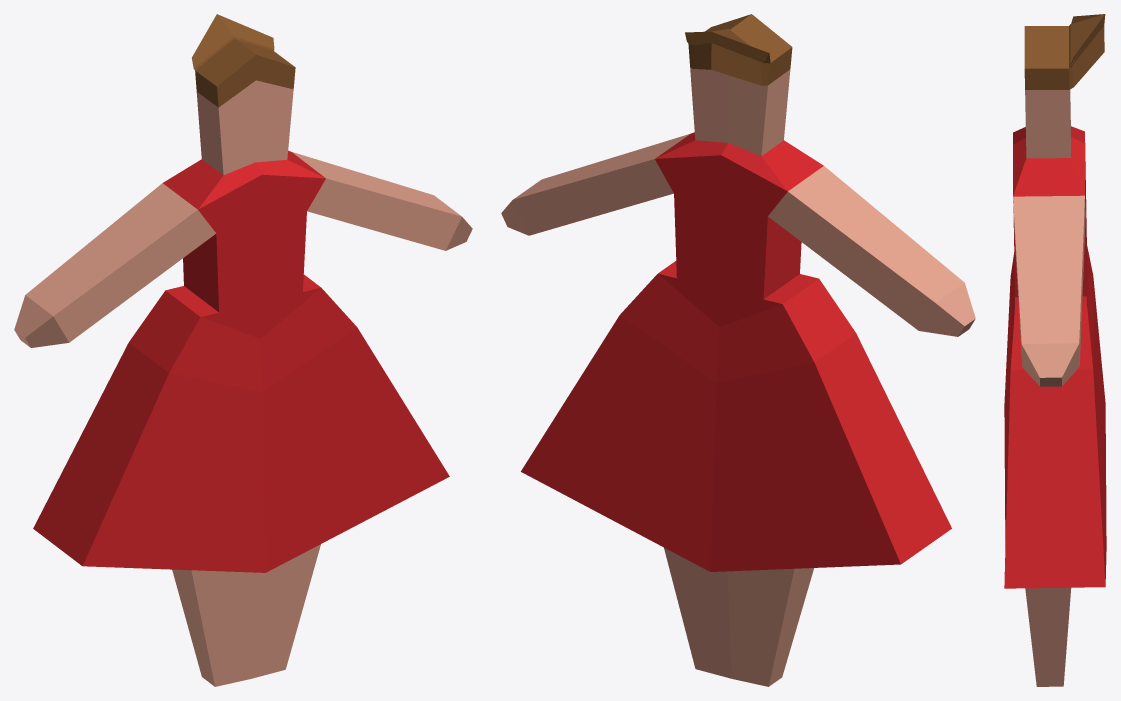
The model's file is scene_ASUJx6NDiB.glb.
The picture shows the model from 3 angles, left to right: view 1: azimuth 30°, elevation 25°; view 2: azimuth 150°, elevation 25°; view 3: azimuth 270°, elevation 25°; orthographic projection. The views are drawn at different scales.
Parts seen in each view (by area): view 1: Cube; view 2: Cube; view 3: Cube.
Boxes of the visible parts, left/top/right/bottom form: Cube: left=14, top=14, right=472, bottom=686; Cube: left=501, top=14, right=975, bottom=686; Cube: left=1004, top=14, right=1106, bottom=686.
Bounding box in the file's own units: 6.83 × 9.34 × 1.32.
